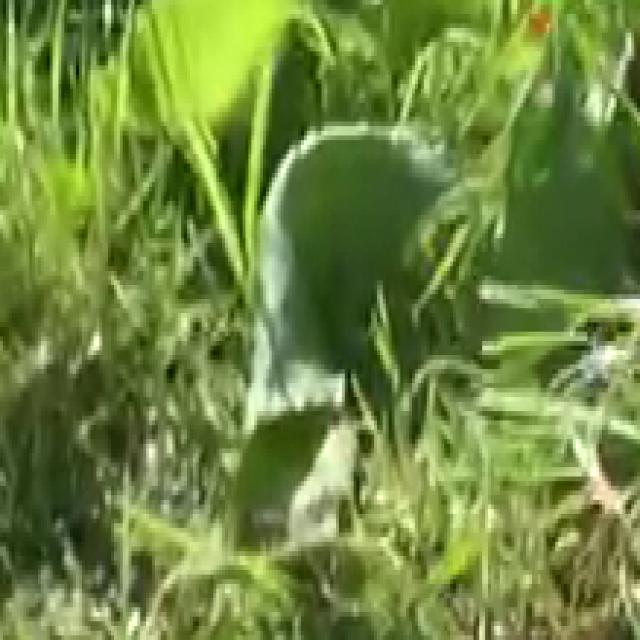organic waste: (207, 60, 497, 630)
